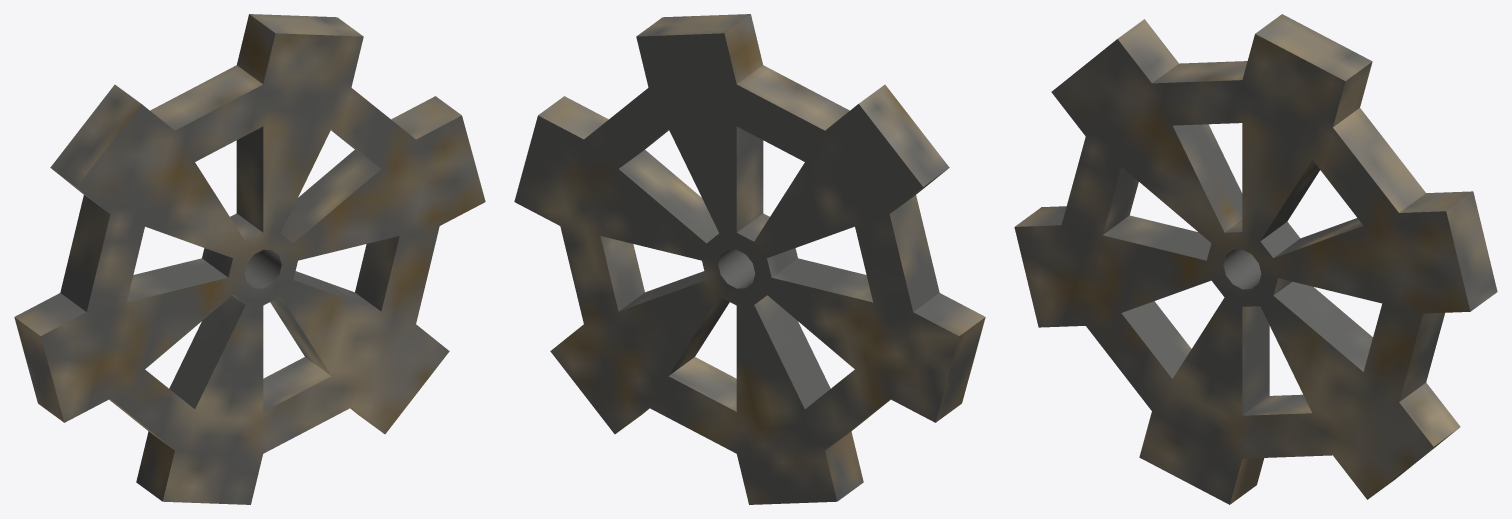
File: Engrenagem_4.glb
The picture shows the model from 3 angles, left to right: view 1: azimuth 30°, elevation 25°; view 2: azimuth 150°, elevation 25°; view 3: azimuth 330°, elevation 25°; orthographic projection. The views are drawn at different scales.
Visible parts, largest first — view 1: Engrenagem.4; view 2: Engrenagem.4; view 3: Engrenagem.4.
Part boxes in pixels (x1,y1,x2,y2): Engrenagem.4: [14, 14, 485, 504]; Engrenagem.4: [514, 14, 985, 504]; Engrenagem.4: [1014, 14, 1497, 504].
Bounding box in the file's own units: 0.3739 × 0.3739 × 0.0385.
1 material, 1 textured.
